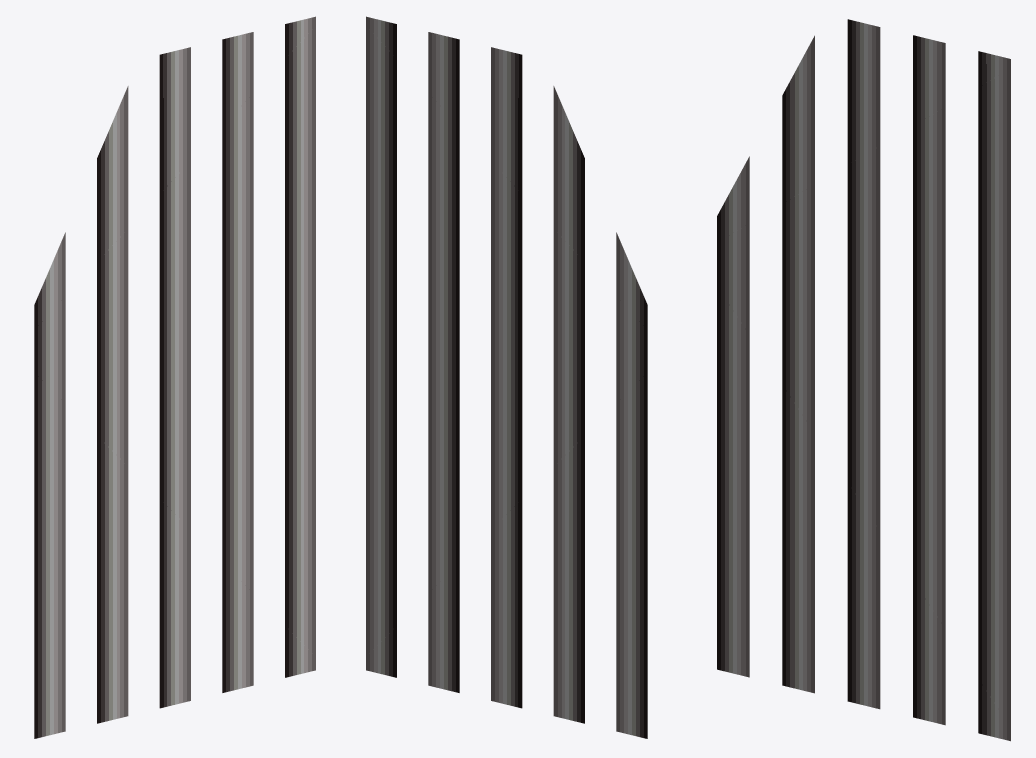
File: Gate.dae
3 renders of one model, left to right at view 1: azimuth 30°, elevation 25°; view 2: azimuth 150°, elevation 25°; view 3: azimuth 330°, elevation 25°, orthographic. The views are drawn at different scales.
Parts seen in each view (by area): view 1: Node2_display; view 2: Node2_display; view 3: Node2_display.
Boxes of the visible parts, x1=… form: Node2_display: x1=34, y1=16, x2=315, y2=738; Node2_display: x1=366, y1=16, x2=647, y2=738; Node2_display: x1=717, y1=19, x2=1010, y2=741.
Bounding box in the file's own units: 320 × 640 × 0.
1 material, 1 textured.
